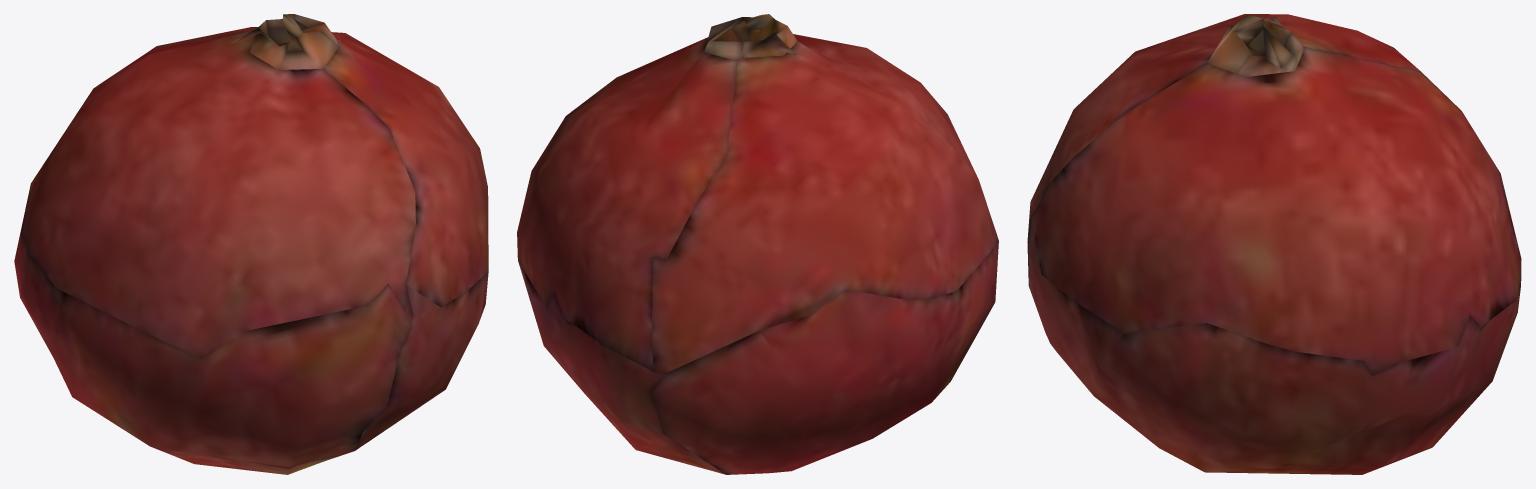
The model's file is food_pomegranate_01.glb.
The picture shows the model from 3 angles, left to right: view 1: azimuth 30°, elevation 25°; view 2: azimuth 150°, elevation 25°; view 3: azimuth 270°, elevation 25°; orthographic projection. The views are drawn at different scales.
Parts seen in each view (by area): view 1: food_pomegranate_01; view 2: food_pomegranate_01; view 3: food_pomegranate_01.
Boxes of the visible parts, x1,y1,x2,y2 form: food_pomegranate_01: [14, 14, 488, 474]; food_pomegranate_01: [517, 14, 998, 474]; food_pomegranate_01: [1027, 14, 1521, 474].
Bounding box in the file's own units: 0.1127 × 0.1145 × 0.1144.
1 material, 1 textured.
